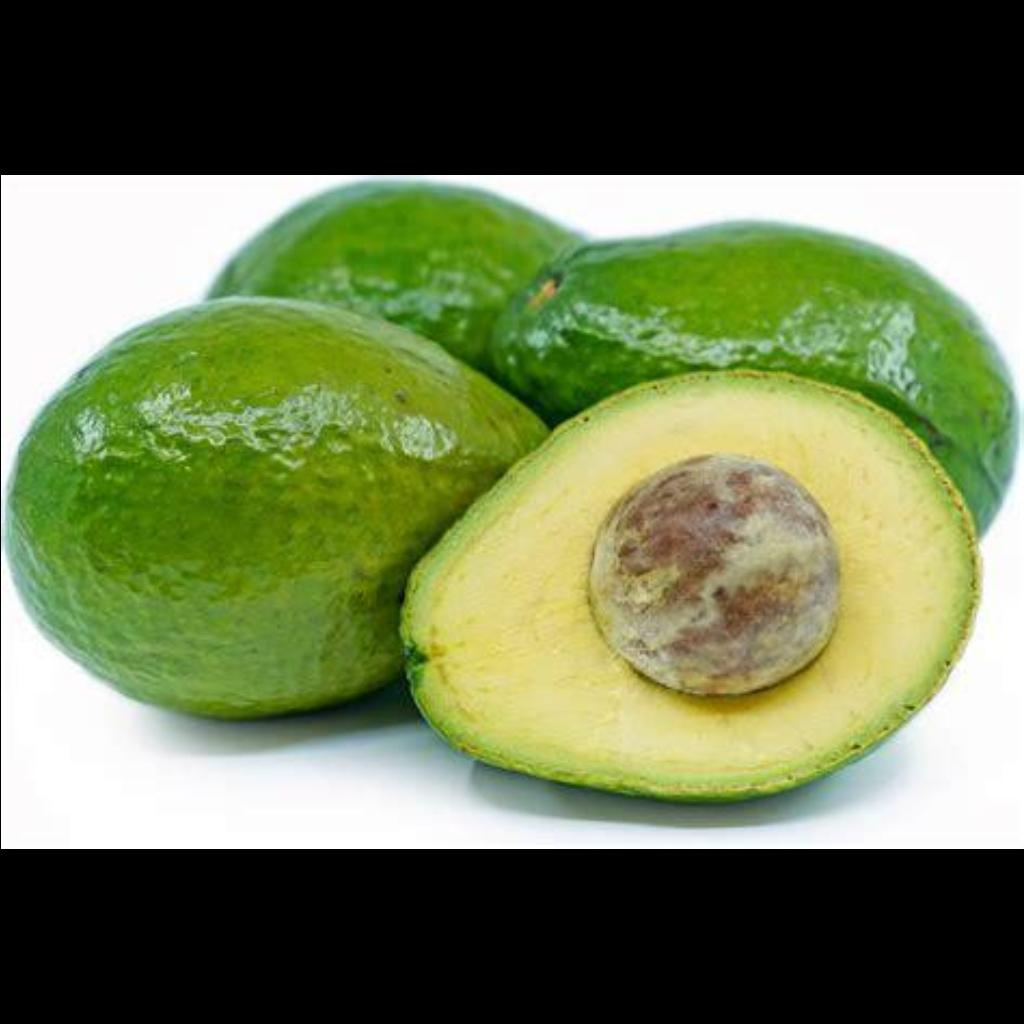Healthy: (13, 176, 1013, 786)
